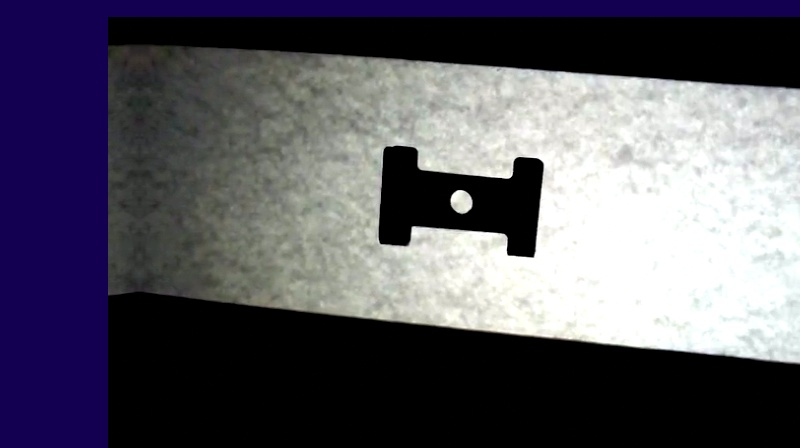O002: (370, 139, 545, 261)
